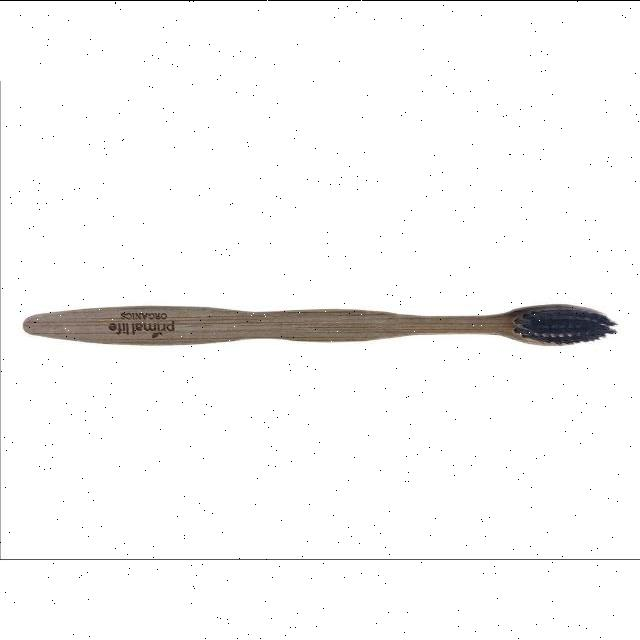toothbrush: (11, 272, 639, 376)
